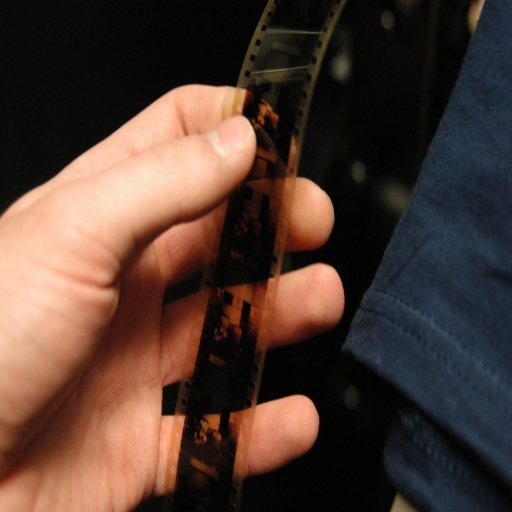hand: (0, 21, 334, 490)
